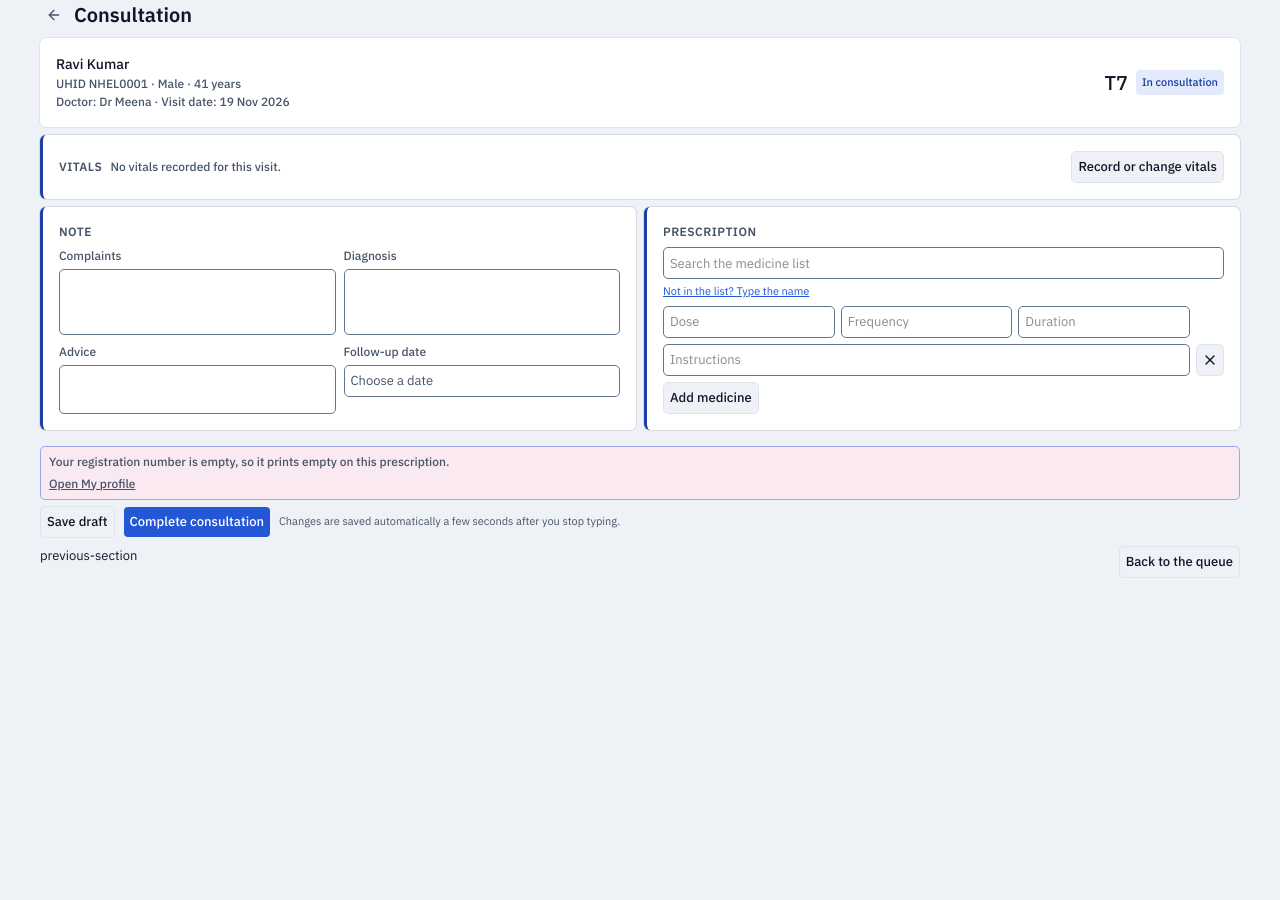
Scenario: the note boxes and the calendar › the follow-up date is chosen on the calendar (quick pick) and saved with the note
Click the button named "Follow-up date".
click(392, 380)  # box [344, 365, 620, 397]
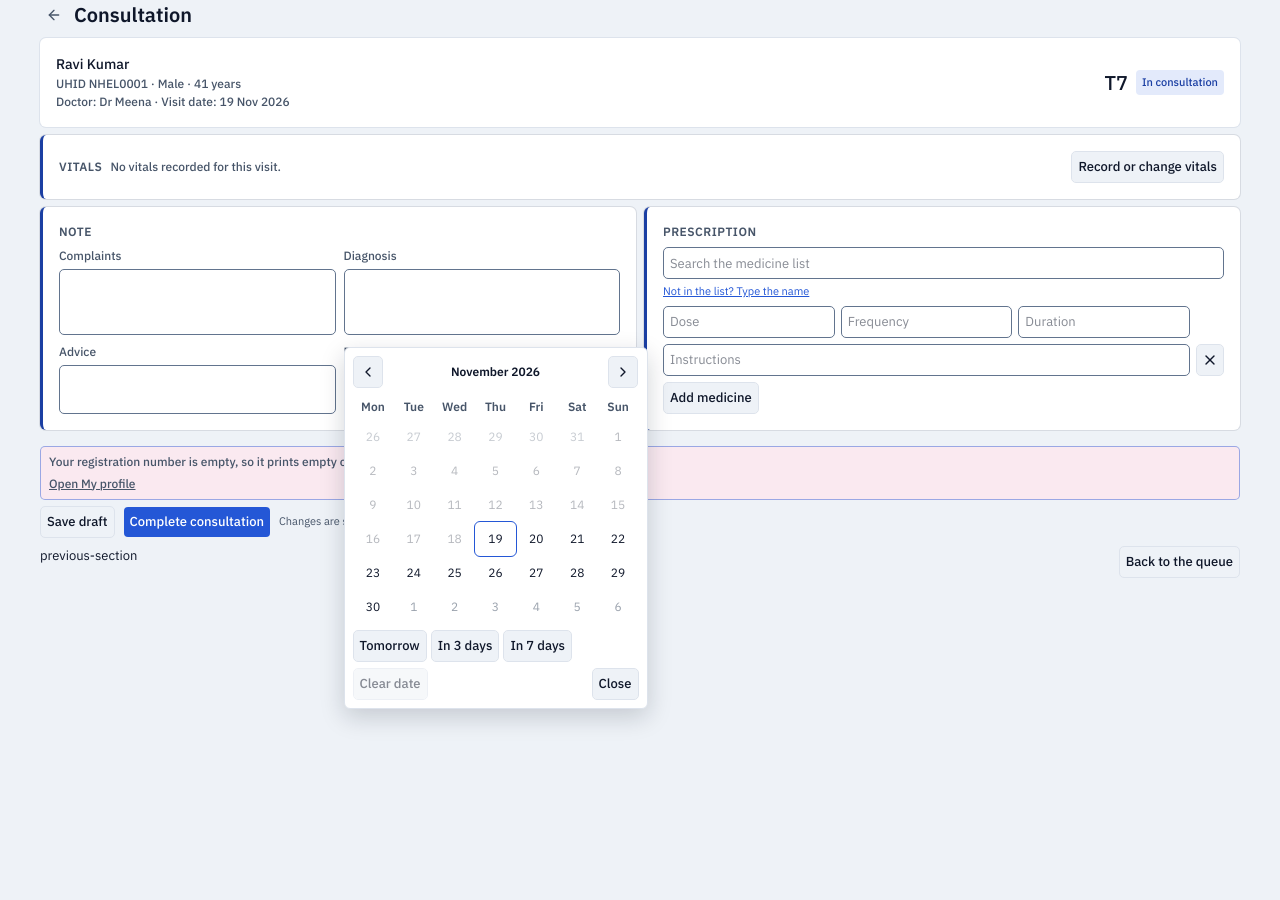
Click the button "In 3 days".
click(465, 646)  # box [431, 630, 499, 662]
Wait 5000 ms
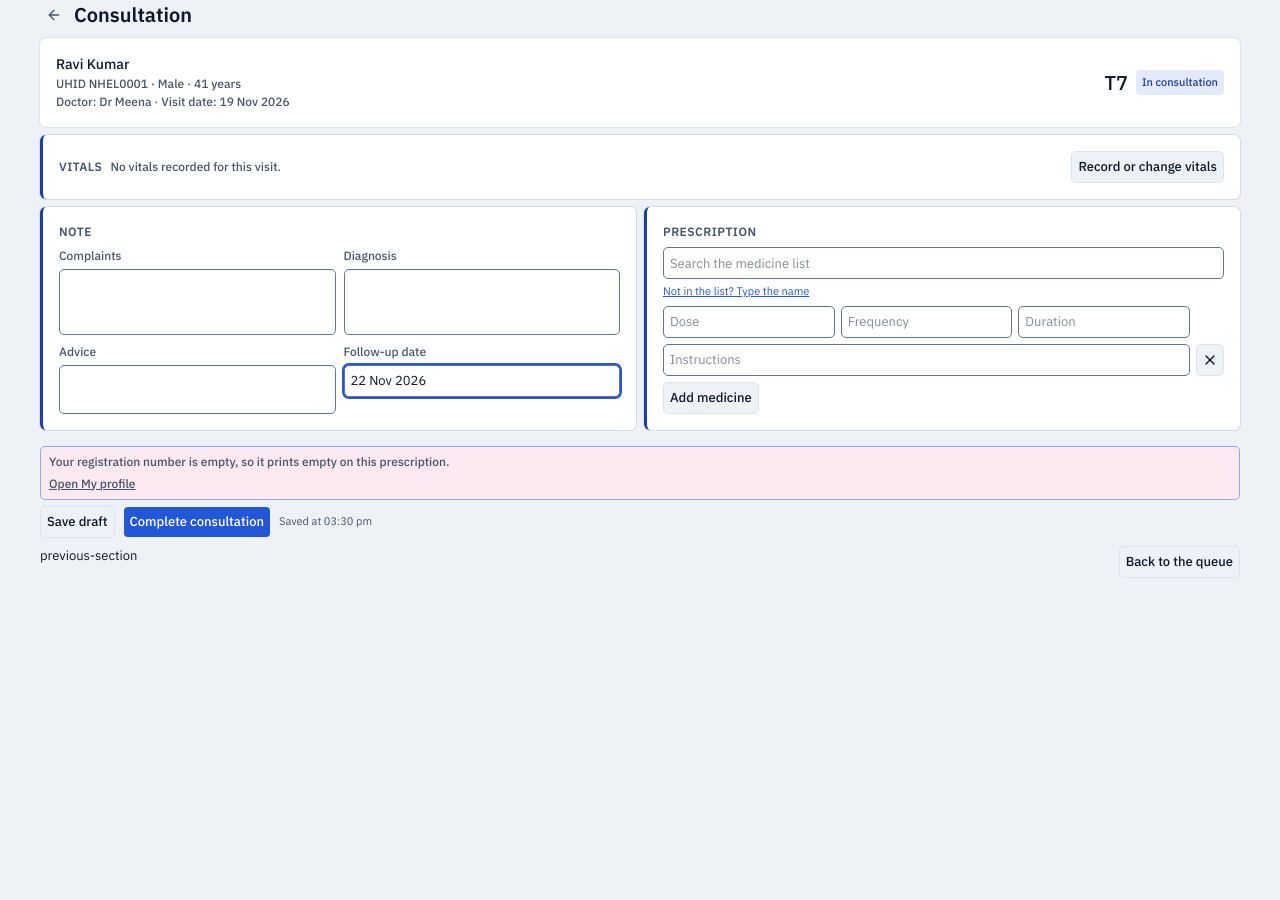
Check: the button named "Follow-up date" reads "22 Nov 2026", box [344, 365, 620, 397]
